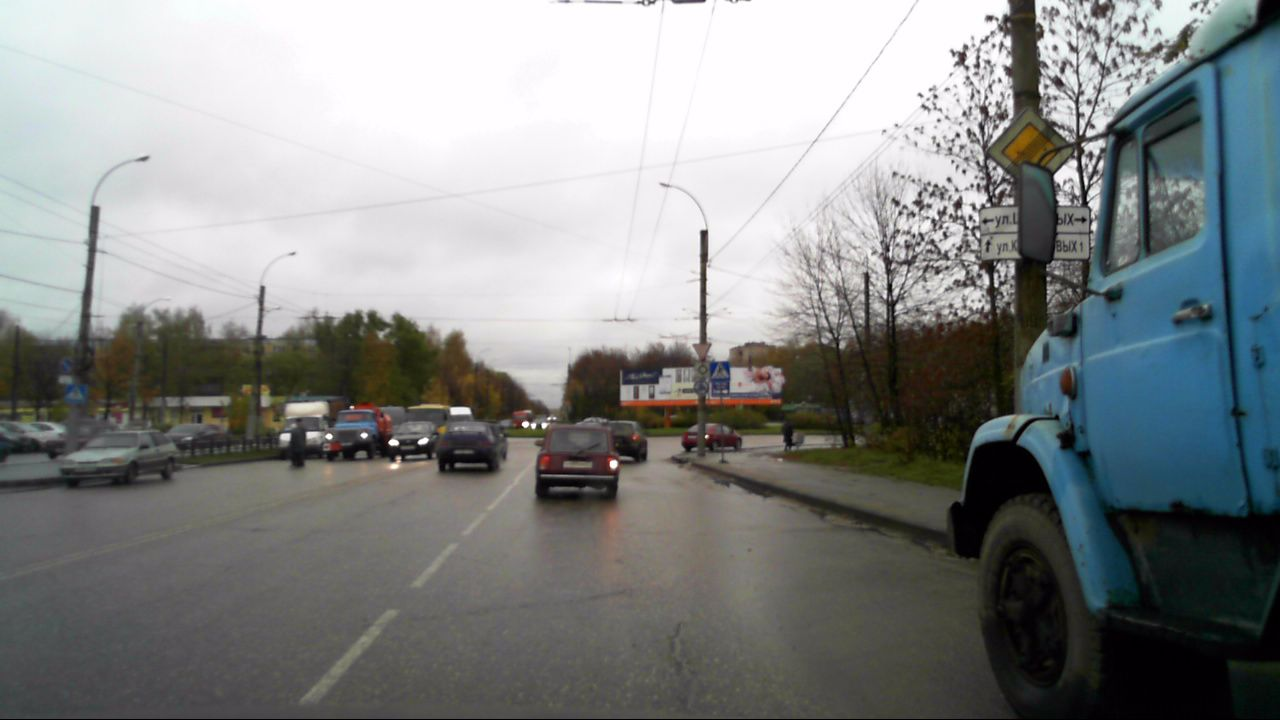main road: (986, 104, 1076, 193)
